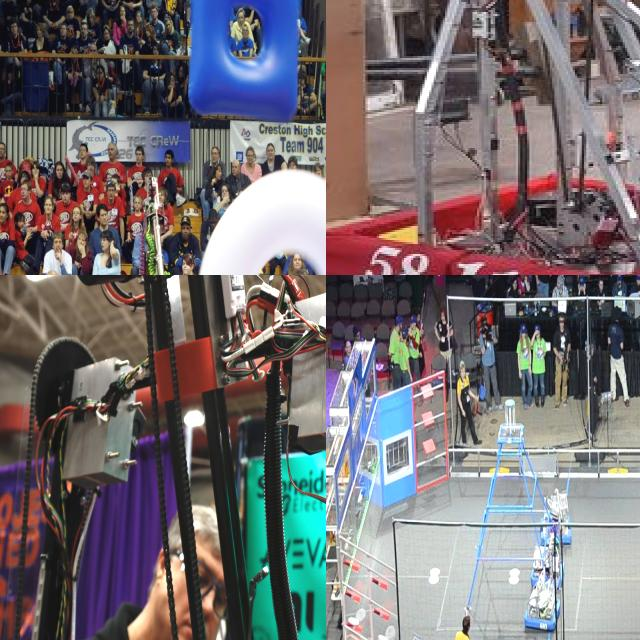FRC-Robots: (61, 275, 326, 640), (326, 0, 640, 275), (80, 169, 232, 275), (520, 572, 560, 640), (535, 489, 577, 550), (520, 542, 568, 582)
